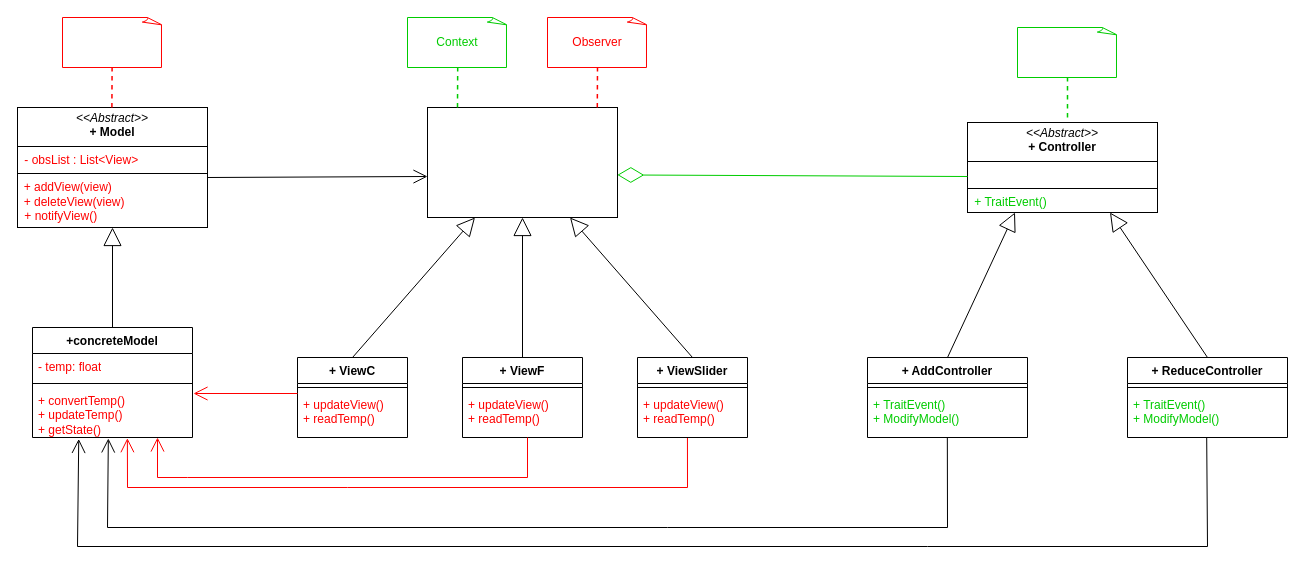
The diagram is 1305 pixels wide and 578 high, and some of its shapes have lost their labels. The shapes that lost their labels are listed below. From the top down, each one's centre as x and y in pixels, then its label:
the point at 112,42: Subject
the point at 1067,52: Strategies
the point at 522,162: <<Abstract>> + View - con : Controller + HandleEvent() + updateView()
